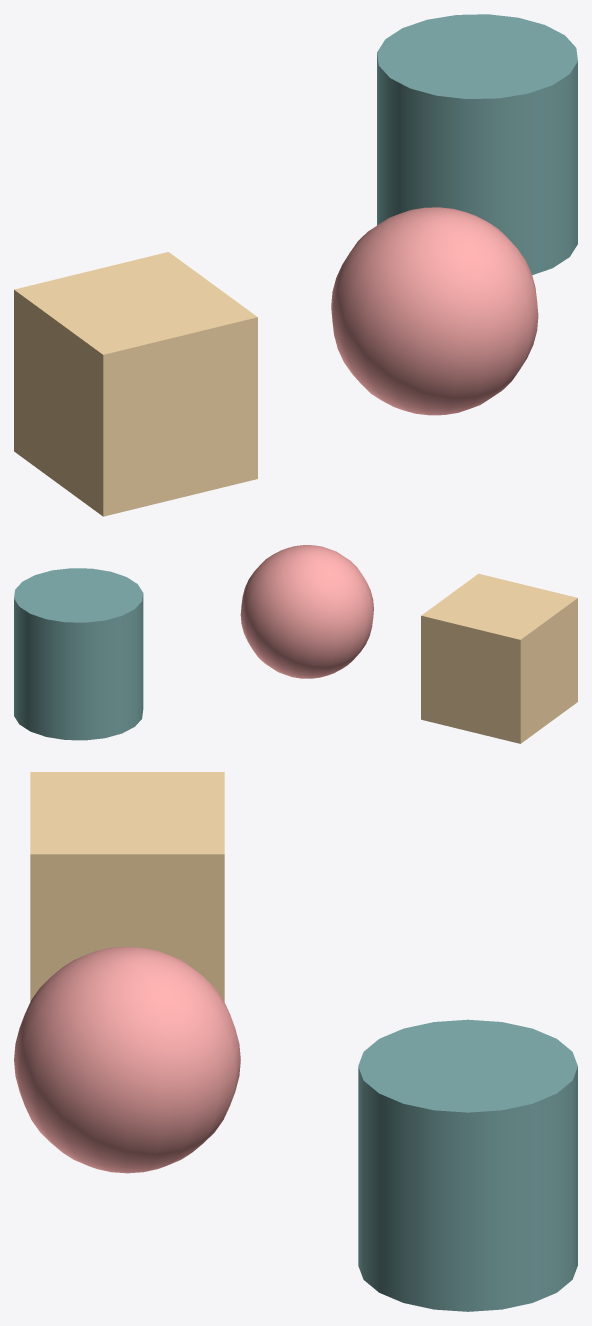
File: multiple_objects.gltf
3 renders of one model, top to bottom at view 1: azimuth 30°, elevation 25°; view 2: azimuth 150°, elevation 25°; view 3: azimuth 270°, elevation 25°, orthographic. The views are drawn at different scales.
Visible parts, largest first — view 1: pCube1, pCylinder1, pSphere1; view 2: pCube1, pCylinder1, pSphere1; view 3: pCylinder1, pSphere1, pCube1.
Part boxes in pixels (x1,y1,x2,y2): pCube1: (14, 252, 257, 516); pCylinder1: (377, 14, 577, 274); pSphere1: (331, 207, 538, 415); pCube1: (421, 573, 577, 743); pCylinder1: (14, 568, 143, 740); pSphere1: (240, 545, 373, 678); pCylinder1: (358, 1019, 577, 1311); pSphere1: (14, 946, 240, 1173); pCube1: (30, 772, 224, 1001).
Bounding box in the file's own units: 0.5878 × 0.1601 × 0.3979.
